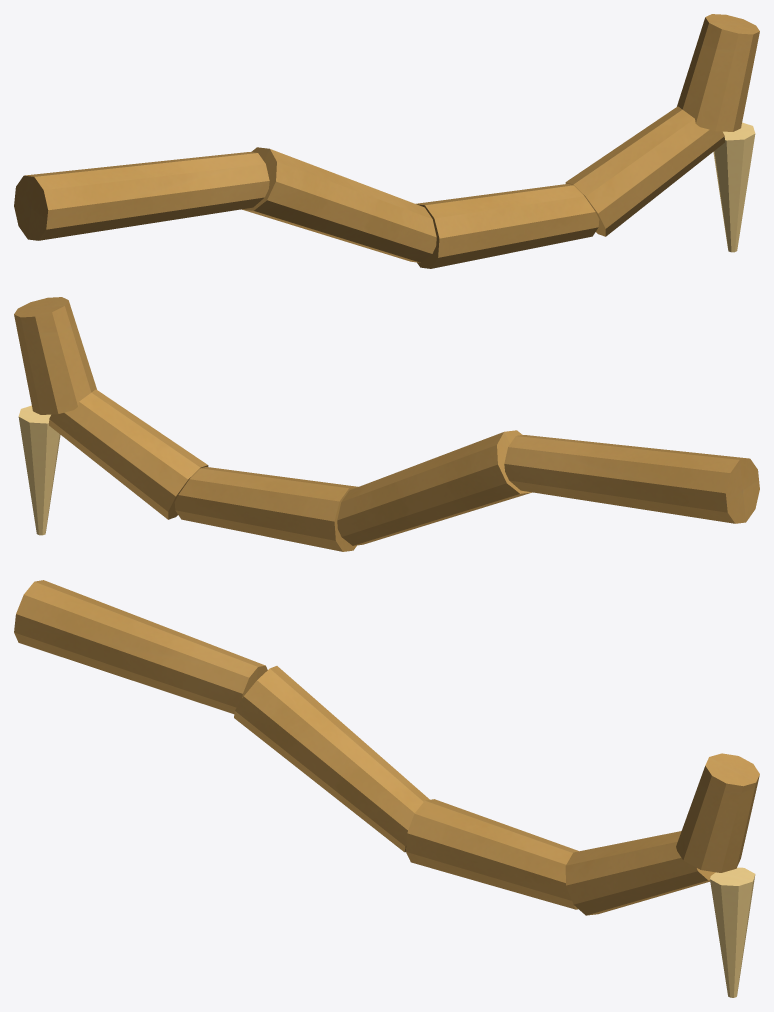
The model's file is SM_Theater_Lamp_ChandelierArm.fbx.
The picture shows the model from 3 angles, top to bottom: view 1: azimuth 30°, elevation 25°; view 2: azimuth 150°, elevation 25°; view 3: azimuth 330°, elevation 25°; orthographic projection.
Parts seen in each view (by area): view 1: SM_Theater_Lamp_ChandelierArm_LOD0; view 2: SM_Theater_Lamp_ChandelierArm_LOD0; view 3: SM_Theater_Lamp_ChandelierArm_LOD0.
Boxes of the visible parts, x1=… form: SM_Theater_Lamp_ChandelierArm_LOD0: x1=14, y1=14, x2=759, y2=268; SM_Theater_Lamp_ChandelierArm_LOD0: x1=14, y1=297, x2=759, y2=551; SM_Theater_Lamp_ChandelierArm_LOD0: x1=14, y1=580, x2=759, y2=997.
Size of what is drawn, in the model's own units: 1.79 by 0.5716 by 0.137.
